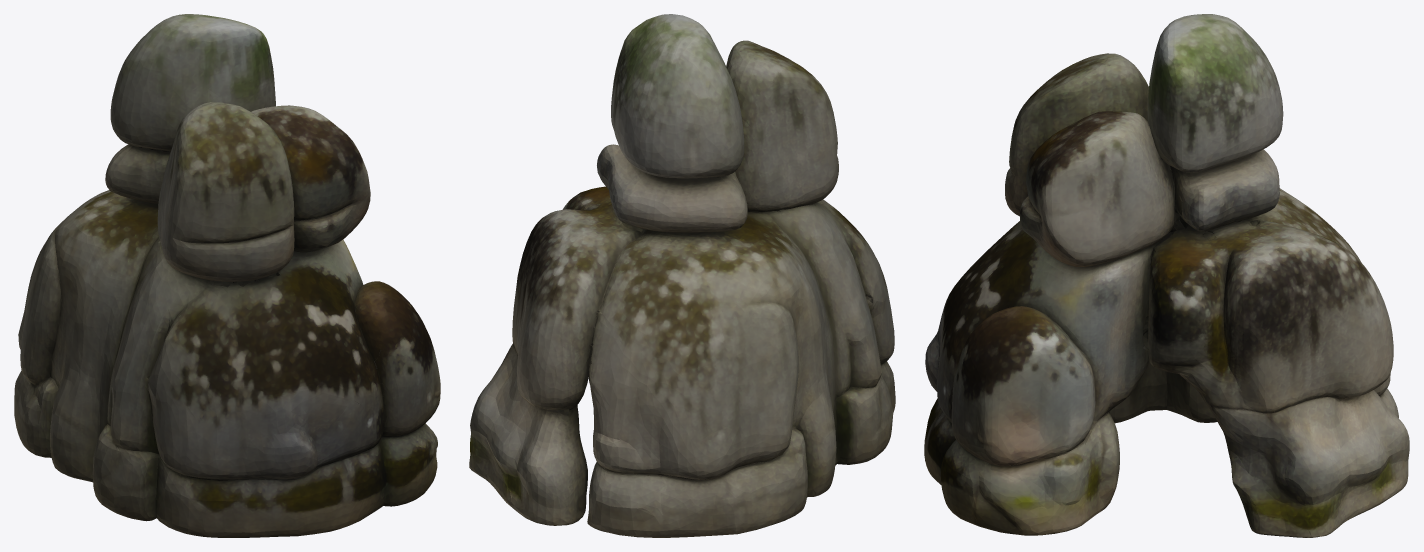
File: boyoyoing.glb
3 renders of one model, left to right at view 1: azimuth 30°, elevation 25°; view 2: azimuth 150°, elevation 25°; view 3: azimuth 270°, elevation 25°, orthographic. The views are drawn at different scales.
Visible parts, largest first — view 1: world; view 2: world; view 3: world.
Boxes of the visible parts, x1,y1,x2,y2 form: world: [14, 14, 440, 537]; world: [469, 14, 895, 537]; world: [924, 14, 1409, 537].
Bounding box in the file's own units: 0.7383 × 0.9992 × 0.9975.
Materials: 1 (1 with a texture image).
